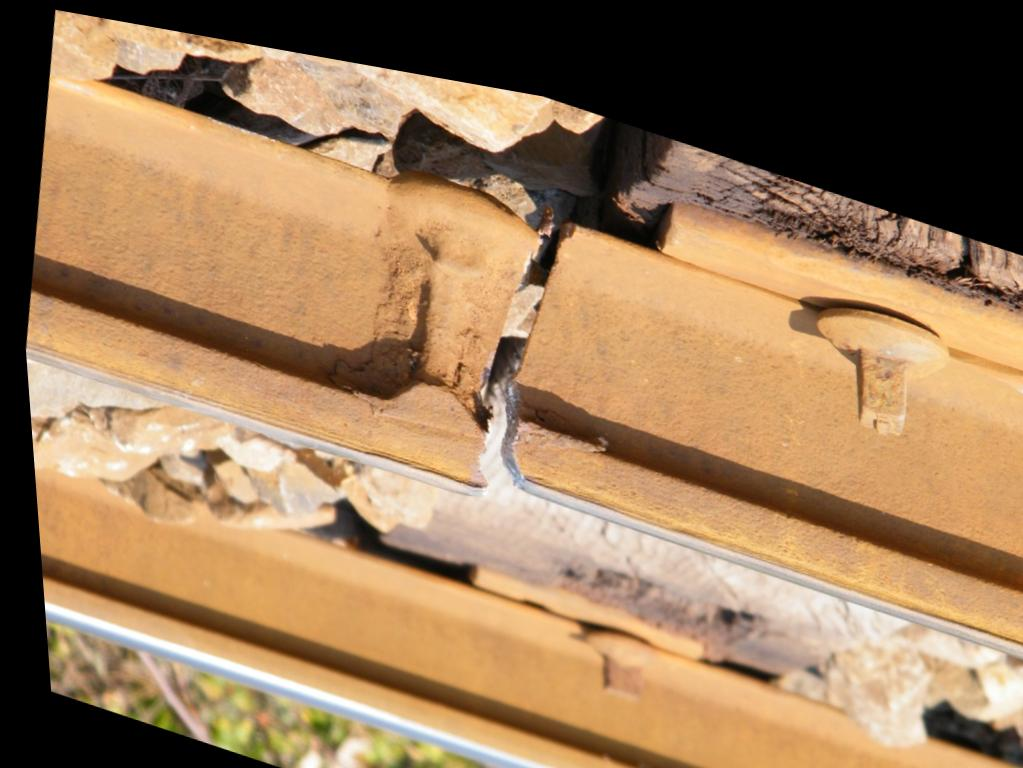person: (299, 91, 717, 569)
